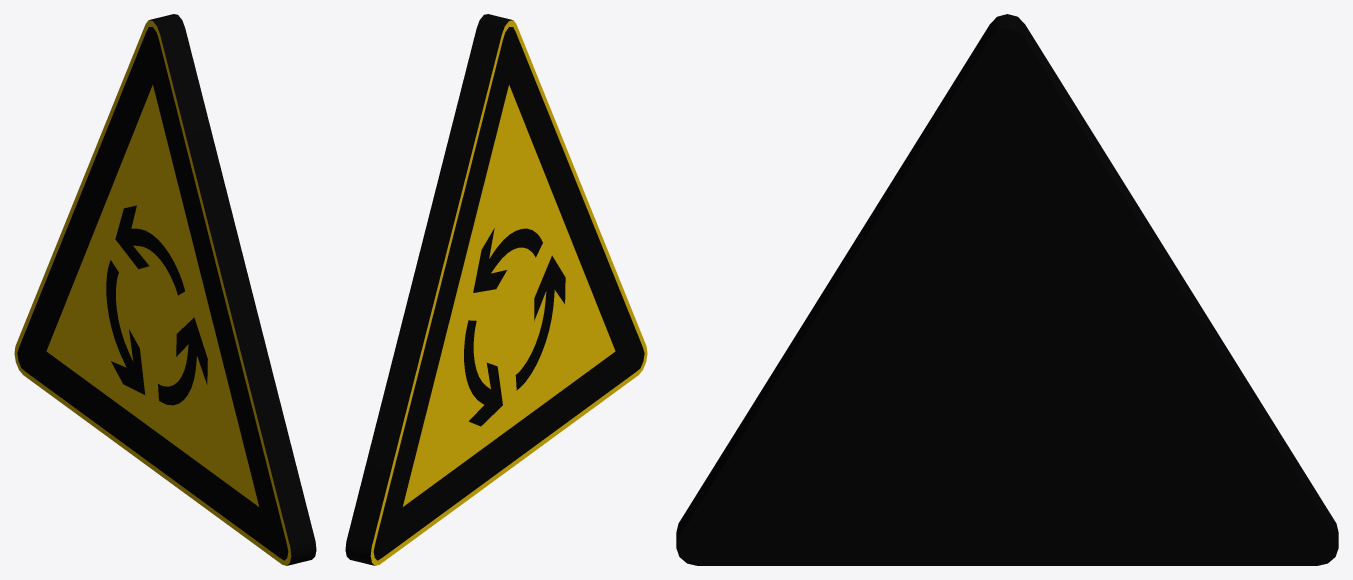
File: Circle_Crossing.fbx
The picture shows the model from 3 angles, left to right: view 1: azimuth 30°, elevation 25°; view 2: azimuth 150°, elevation 25°; view 3: azimuth 270°, elevation 25°; orthographic projection. The views are drawn at different scales.
Visible parts, largest first — view 1: Circle_Crossing; view 2: Circle_Crossing; view 3: Circle_Crossing.
Boxes of the visible parts, left/top/right/bottom form: Circle_Crossing: left=14, top=14, right=316, bottom=565; Circle_Crossing: left=345, top=14, right=647, bottom=565; Circle_Crossing: left=676, top=14, right=1338, bottom=565.
Size of the model in its own units: 0.0618 by 1.02 by 1.14.
